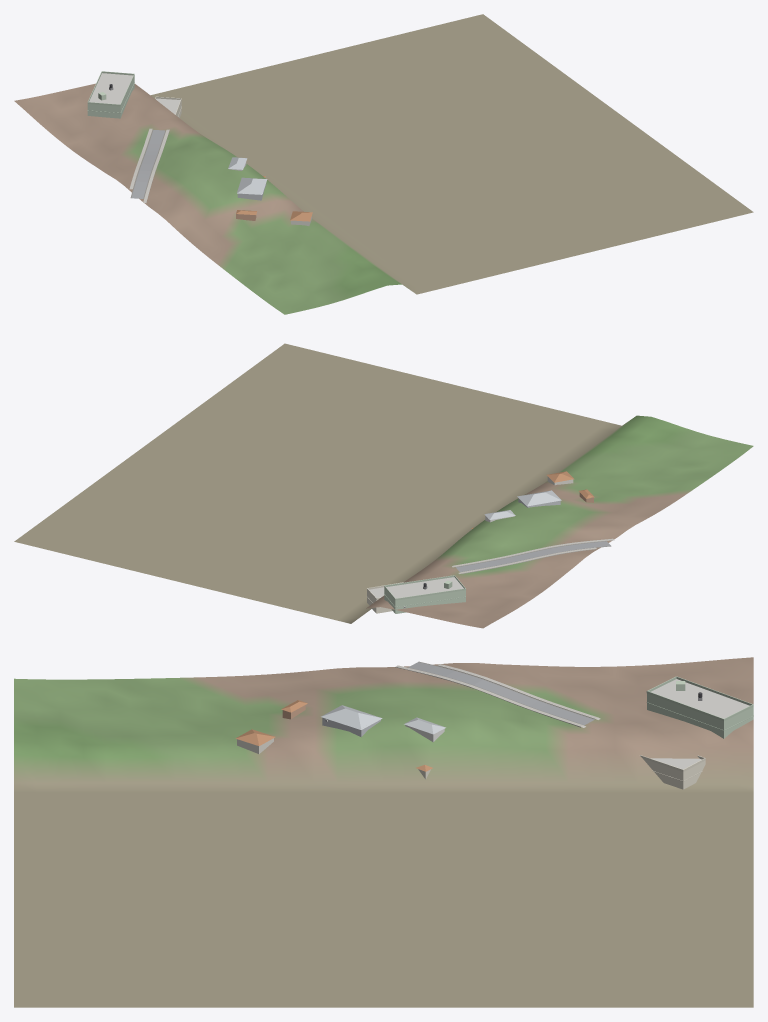
The picture shows the model from 3 angles, top to bottom: view 1: azimuth 30°, elevation 25°; view 2: azimuth 150°, elevation 25°; view 3: azimuth 270°, elevation 25°; orthographic projection. The views are drawn at different scales.
Parts seen in each view (by area): view 1: Terrain-col, Buildings-col, Roads-col, Details, Sidewalks-col; view 2: Terrain-col, Buildings-col, Roads-col, Sidewalks-col, Details; view 3: Terrain-col, Buildings-col, Roads-col, Details, Sidewalks-col.
Boxes of the visible parts, x1,y1,x2,y2 form: Terrain-col: [14, 14, 753, 314]; Buildings-col: [87, 73, 312, 225]; Roads-col: [130, 129, 165, 198]; Details: [87, 71, 262, 194]; Sidewalks-col: [129, 128, 169, 202]; Terrain-col: [14, 343, 753, 628]; Buildings-col: [367, 471, 594, 613]; Roads-col: [455, 541, 611, 572]; Sidewalks-col: [452, 538, 614, 573]; Details: [366, 575, 465, 607]; Terrain-col: [14, 657, 753, 1007]; Buildings-col: [235, 679, 753, 789]; Roads-col: [408, 661, 594, 725]; Details: [325, 676, 753, 781]; Sidewalks-col: [395, 664, 600, 727].
Bounding box in the file's own units: 259 × 21.03 × 256.
